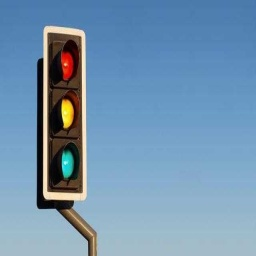traffic light: (43, 25, 87, 200)
